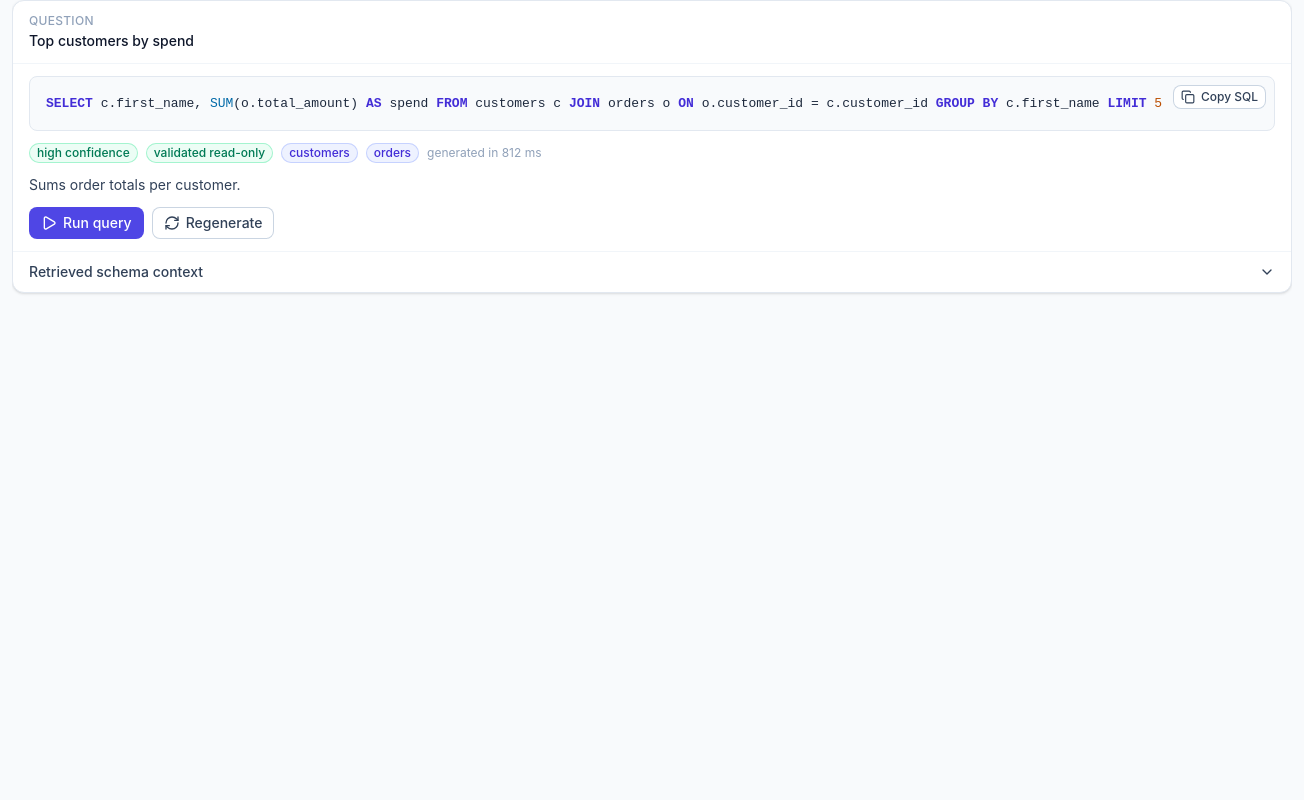
Test case: TurnCard › runs a validated query and shows the result
Check: the text "validated read-only" is shown, box top-left (146, 143), bottom-right (273, 163)
Click the button "Run query".
click(86, 223)  # box top-left (29, 207), bottom-right (144, 239)
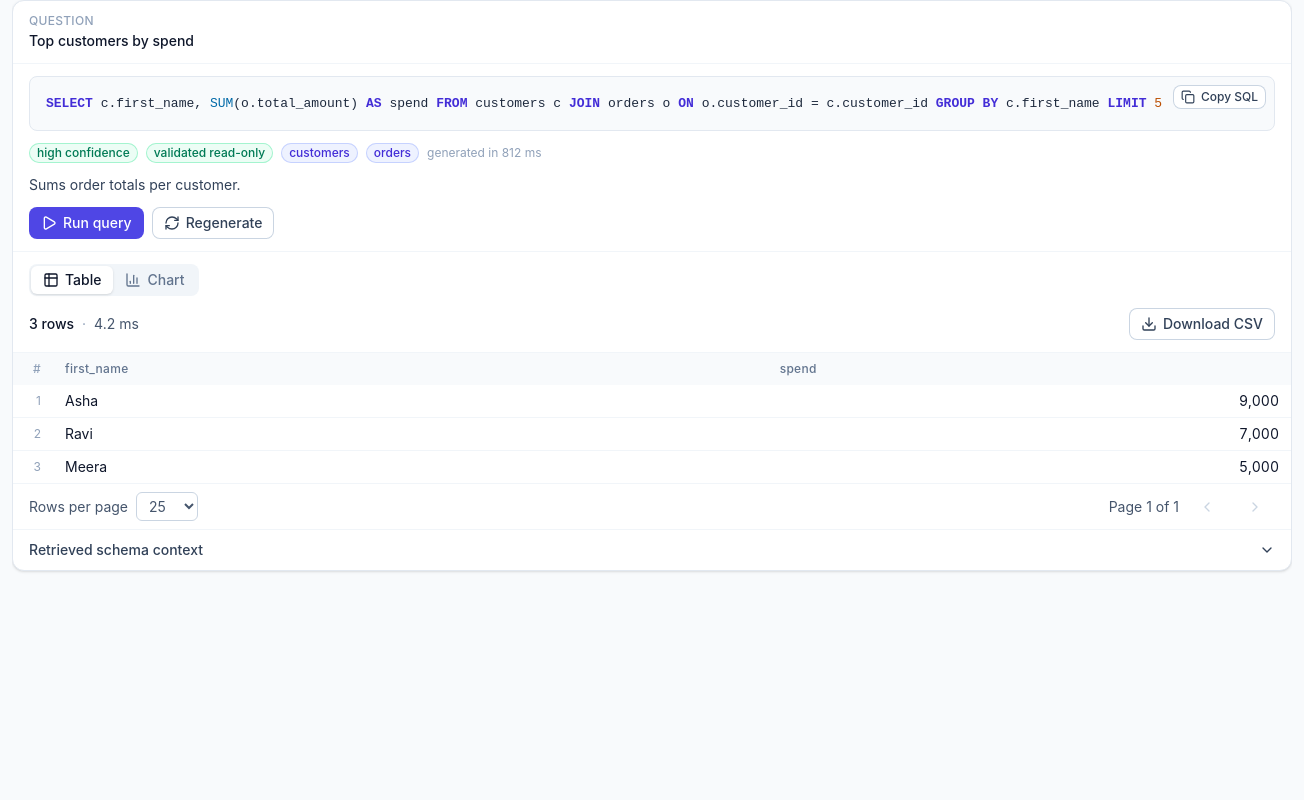
Check: the text with test id "row-count" reads "3 rows", box top-left (29, 314), bottom-right (74, 334)
